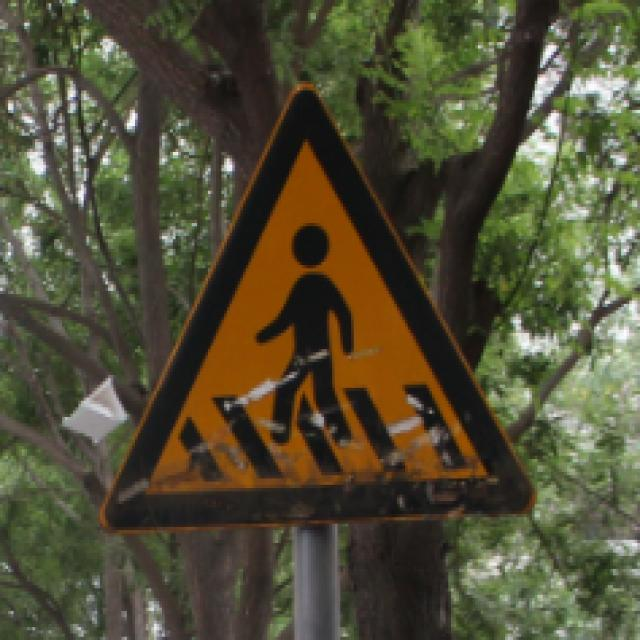Crossing: (85, 79, 538, 539)
